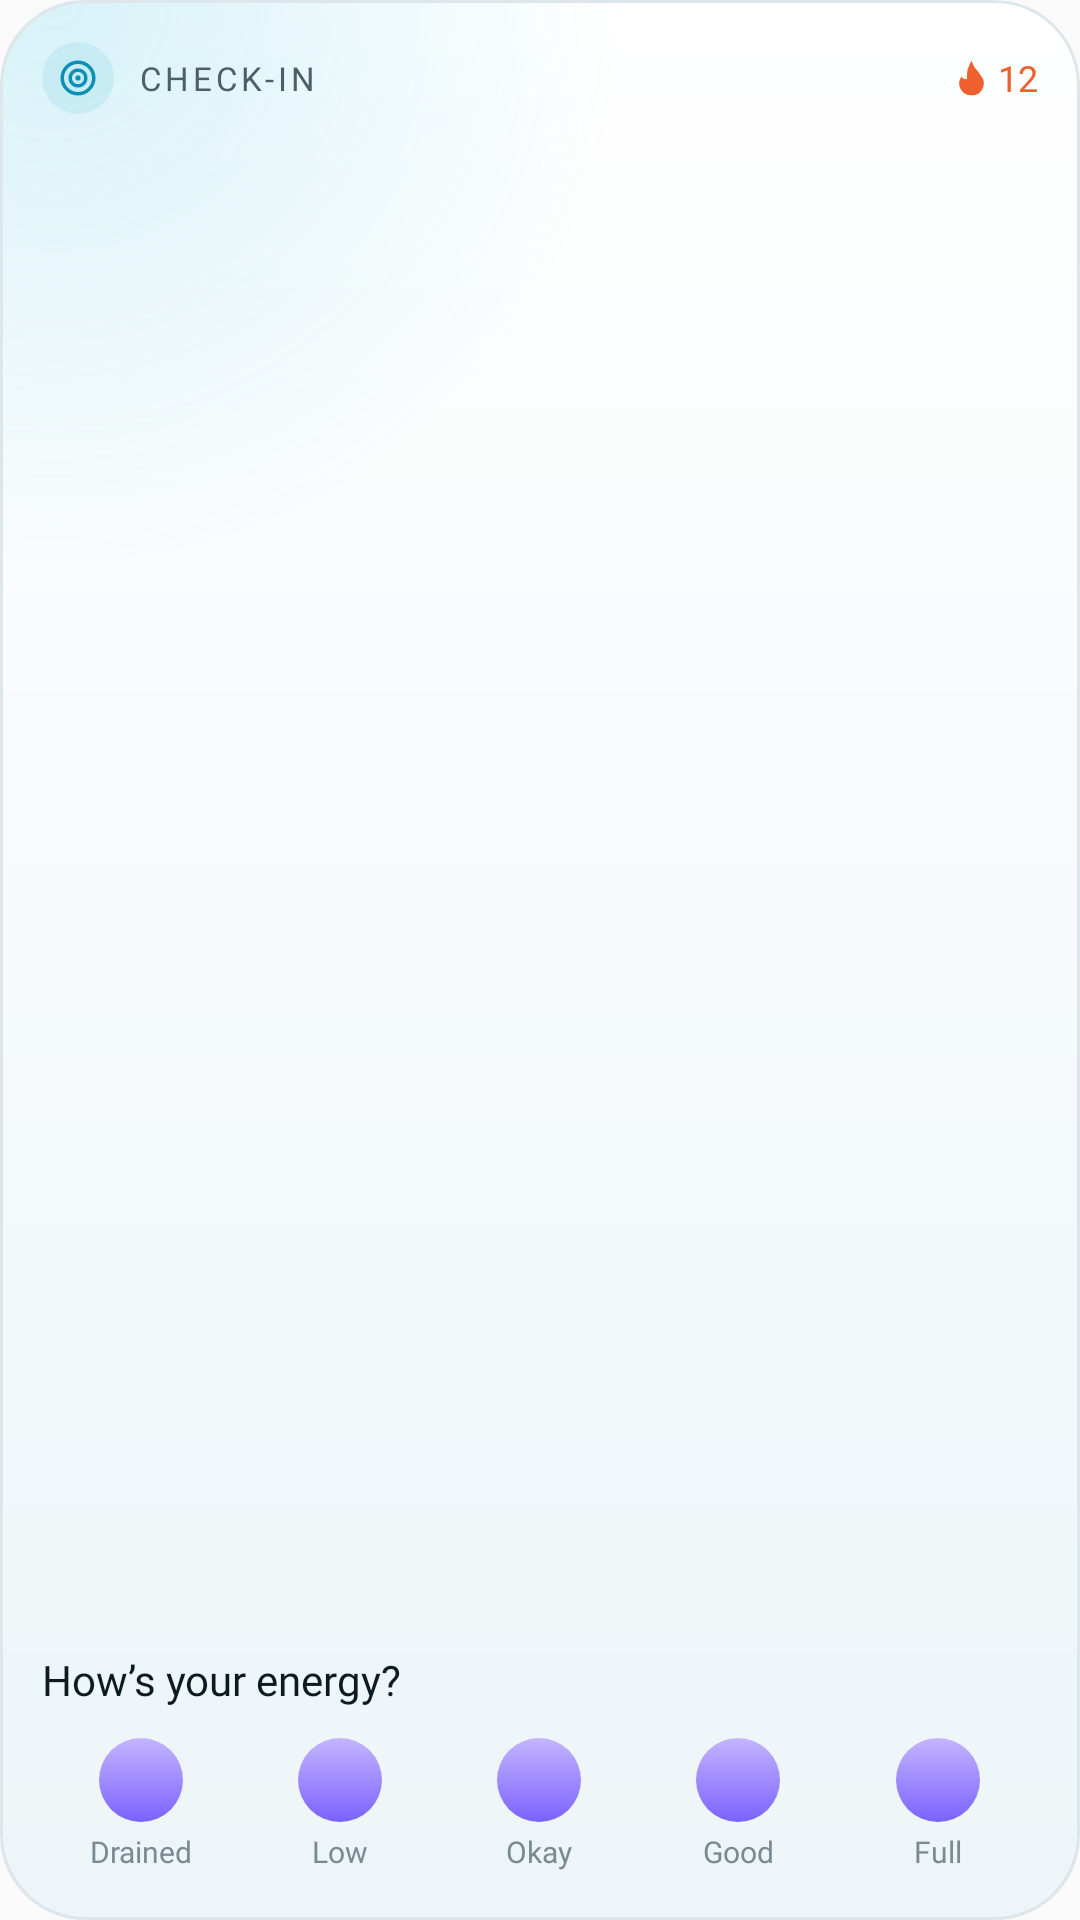

Where to tap for icons on this 1080px×1920px app screen, as (x=x, y=y):
widget flame: (x=971, y=78)
widget target: (x=78, y=78)
